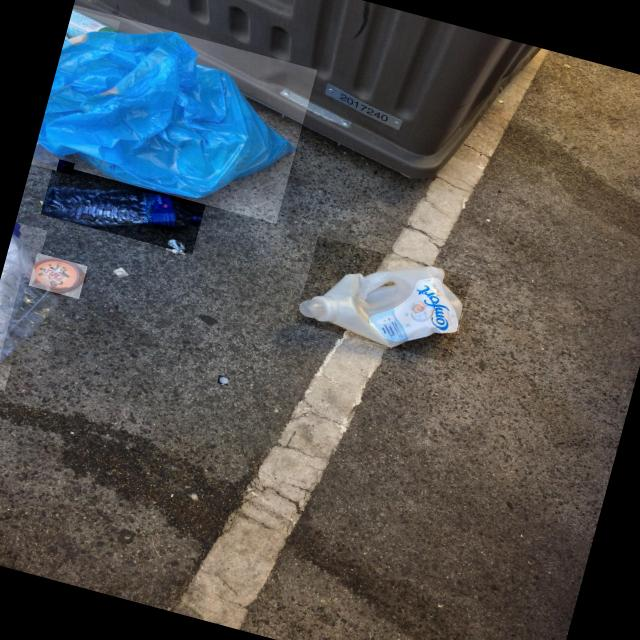Aluminium foil: (167, 238, 186, 253)
Bottle cap: (299, 296, 333, 322), (57, 162, 73, 172), (218, 376, 229, 384)
Clear plastic bottle: (43, 184, 200, 228), (0, 222, 35, 361), (33, 142, 71, 172)
Food container: (0, 282, 58, 363)
Garbage bag: (37, 31, 295, 198)
Lid: (34, 259, 85, 294)
Other plastic bottle: (65, 9, 117, 39)
Other plastic wrapper: (300, 266, 464, 347)
Unlabeled litter: (113, 267, 128, 277)
